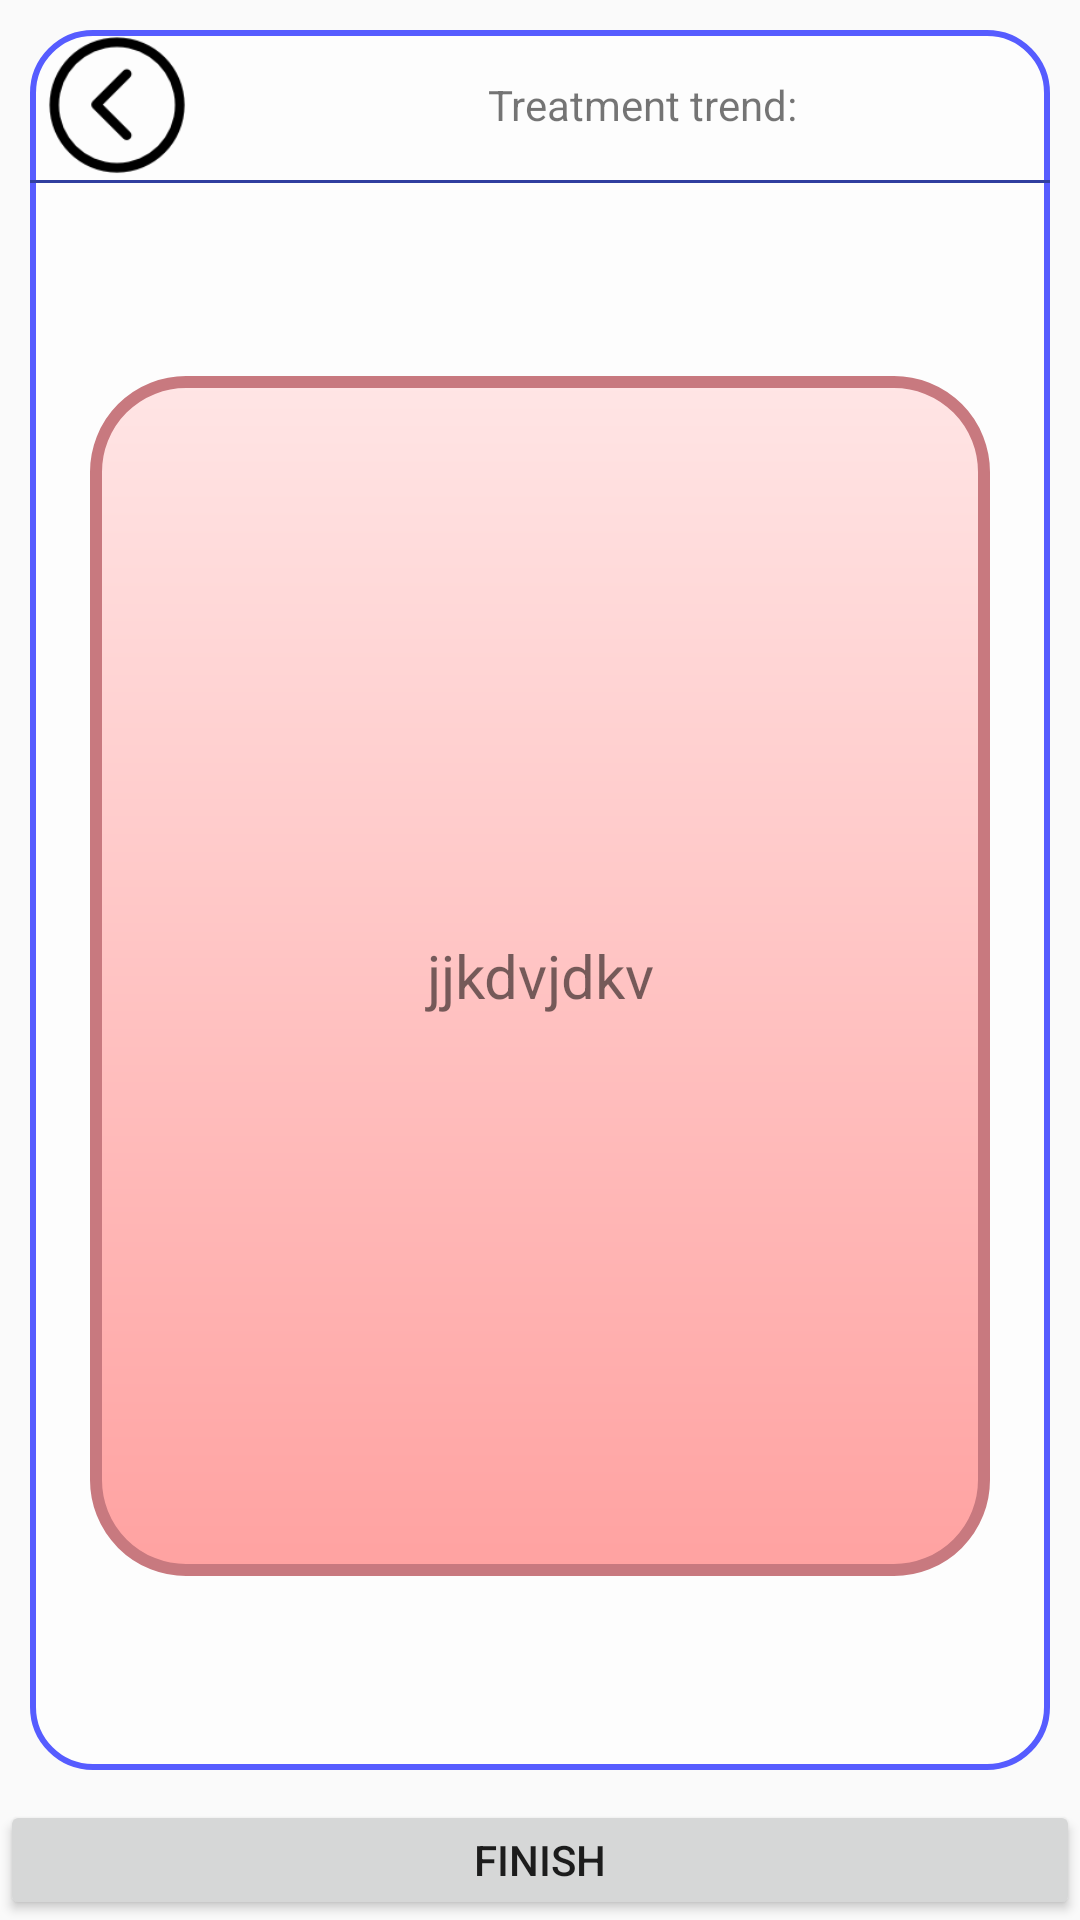

Icon bounding boxes for this 1080×1920 phone screenshot, format [x1,y1,x2,y2]:
prev: [49,37,185,173]
